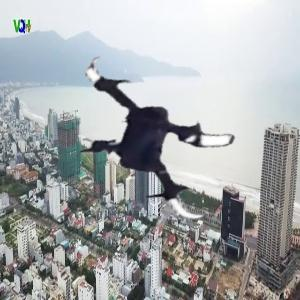drone: (64, 37, 261, 234)
